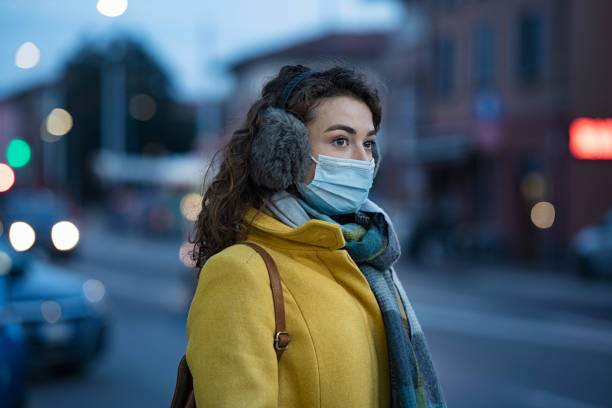with mask: (274, 91, 378, 216)
